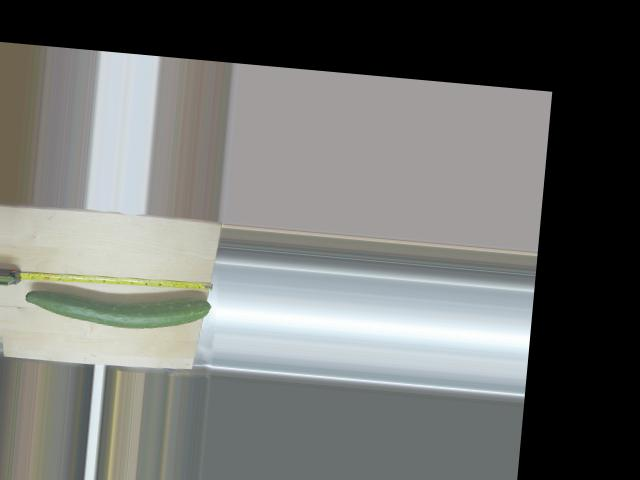cucumber: (23, 282, 211, 334)
